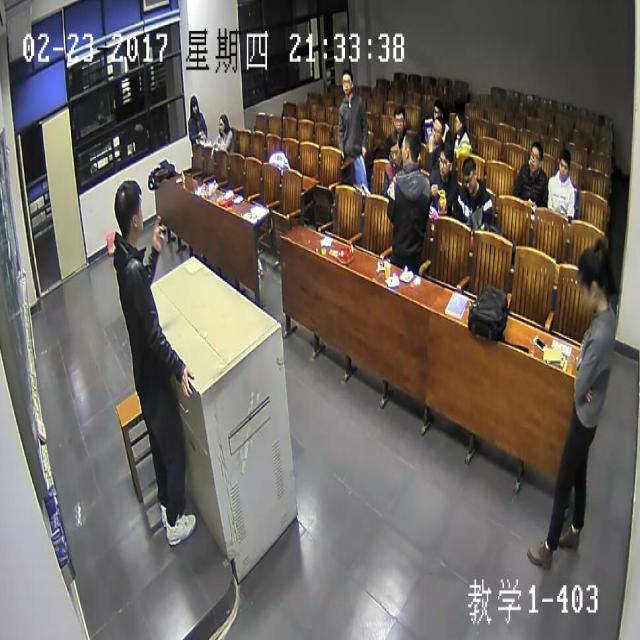person: (114, 177, 146, 239), (580, 245, 610, 309), (400, 133, 420, 168), (463, 159, 477, 194), (438, 143, 452, 177), (339, 70, 354, 98), (528, 139, 542, 167), (430, 117, 443, 144), (388, 139, 401, 163), (429, 96, 442, 120), (556, 151, 568, 176), (187, 93, 200, 114), (393, 104, 403, 130), (216, 114, 227, 134), (452, 112, 462, 134)
